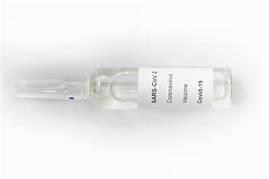Syringe: (7, 64, 235, 113)
